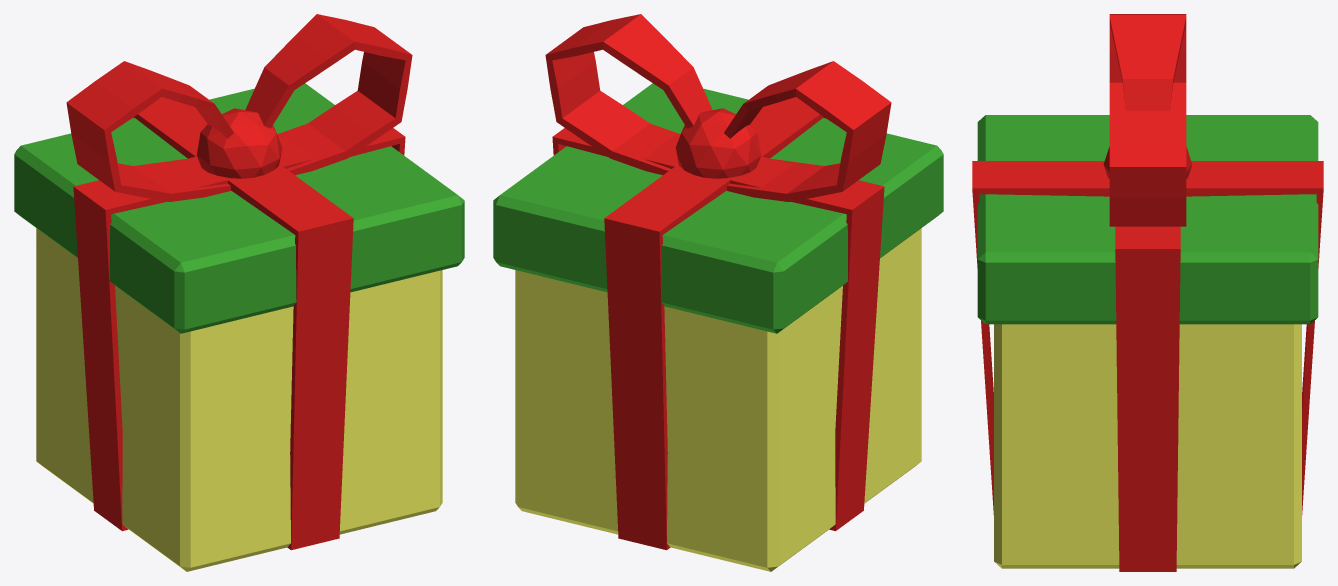
File: regalo.fbx
The picture shows the model from 3 angles, left to right: view 1: azimuth 30°, elevation 25°; view 2: azimuth 150°, elevation 25°; view 3: azimuth 270°, elevation 25°; orthographic projection.
Parts seen in each view (by area): view 1: Cube, Cube.001, Plane, Icosphere; view 2: Cube, Cube.001, Plane, Icosphere; view 3: Cube, Cube.001, Plane.
Boxes of the visible parts, x1,y1,x2,y2 form: Cube: [14, 83, 464, 571]; Cube.001: [73, 97, 405, 550]; Plane: [66, 14, 412, 201]; Icosphere: [196, 108, 282, 178]; Cube: [493, 83, 943, 571]; Cube.001: [552, 97, 884, 550]; Plane: [545, 14, 891, 201]; Icosphere: [675, 108, 761, 178]; Cube: [977, 115, 1318, 568]; Cube.001: [972, 161, 1323, 571]; Plane: [1109, 14, 1186, 226].
Size of the model in its own units: 235 by 318 by 228.
